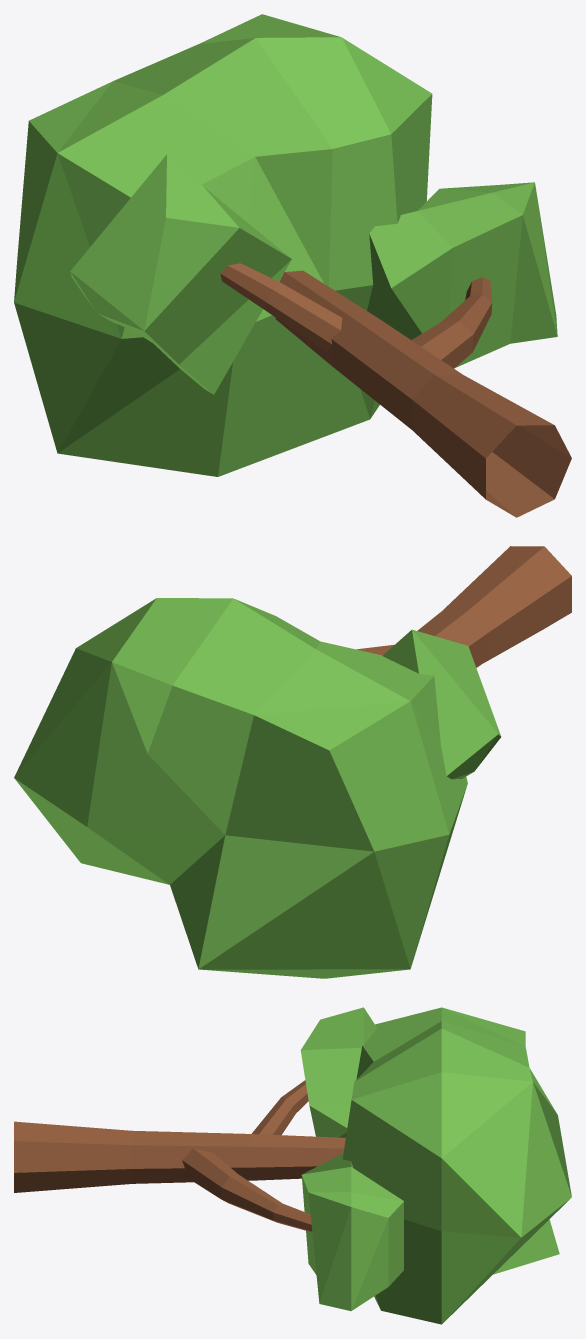
Rendered from SM_Tree1Rotated.FBX.
The picture shows the model from 3 angles, top to bottom: view 1: azimuth 30°, elevation 25°; view 2: azimuth 150°, elevation 25°; view 3: azimuth 270°, elevation 25°; orthographic projection. The views are drawn at different scales.
Visible parts, largest first — view 1: SM_Tree1; view 2: SM_Tree1; view 3: SM_Tree1.
Boxes of the visible parts, x1=… form: SM_Tree1: x1=14, y1=14, x2=571, y2=517; SM_Tree1: x1=14, y1=546, x2=571, y2=978; SM_Tree1: x1=14, y1=1007, x2=571, y2=1324.
Size of the model in its own units: 92.61 by 133 by 74.3.
